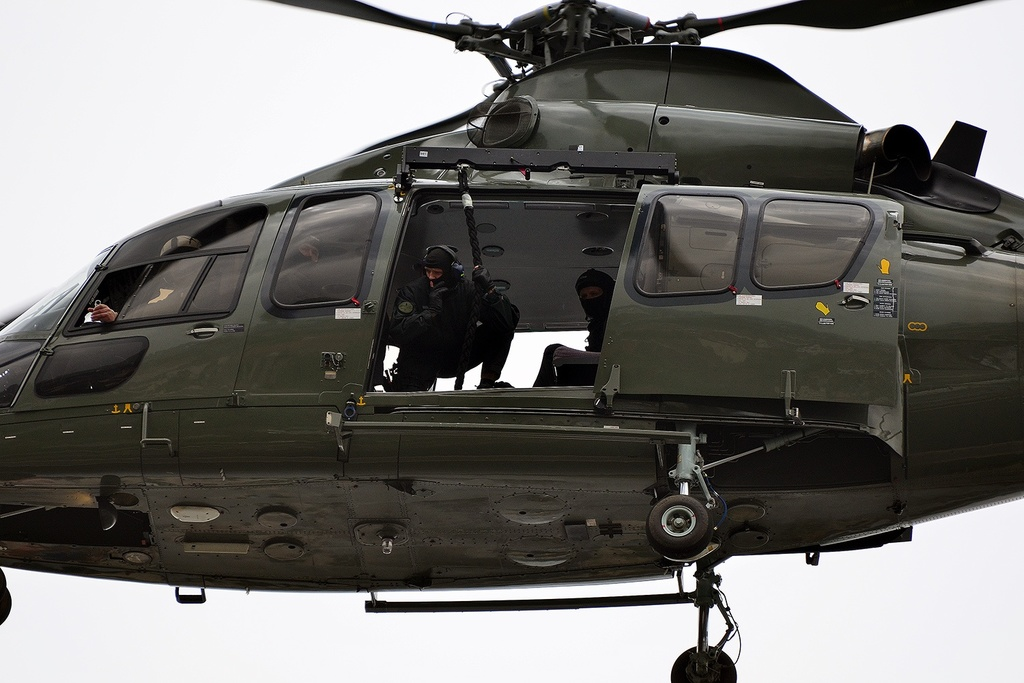person: (461, 263, 521, 389)
